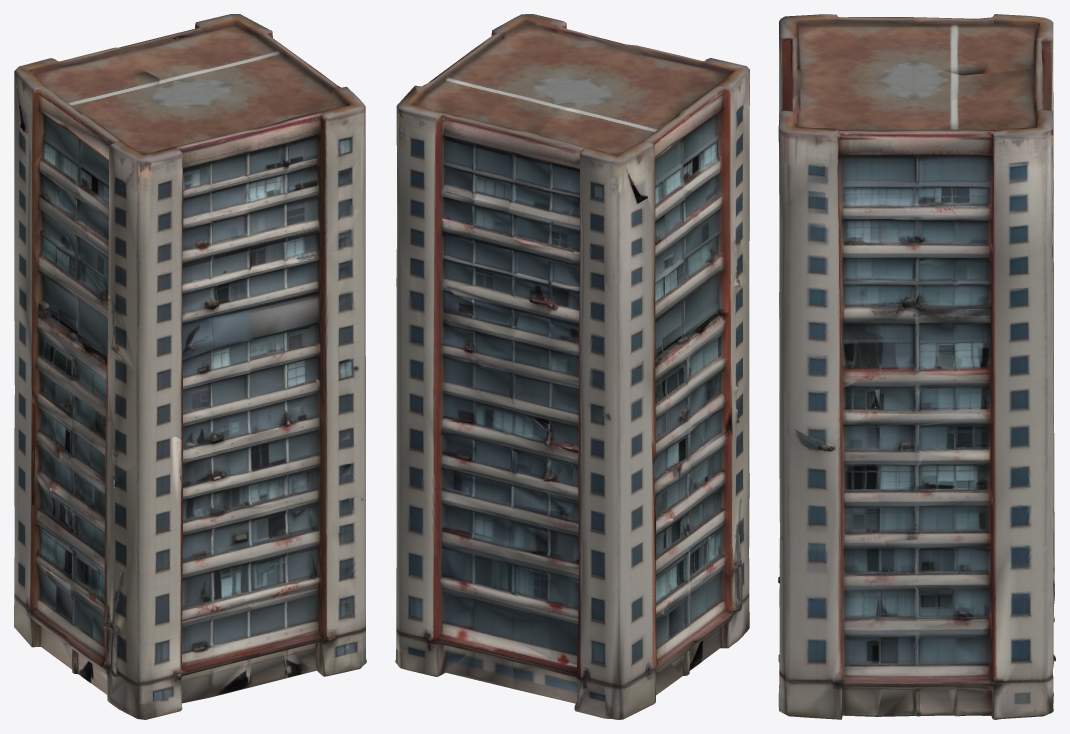
The model's file is Building.fbx.
3 views of the same model, side by side, from view 1: azimuth 30°, elevation 25°; view 2: azimuth 150°, elevation 25°; view 3: azimuth 270°, elevation 25° (orthographic). The views are drawn at different scales.
Parts seen in each view (by area): view 1: Mesh_0; view 2: Mesh_0; view 3: Mesh_0.
Boxes of the visible parts, x1,y1,x2,y2 form: Mesh_0: (14,14,366,719); Mesh_0: (395,14,749,719); Mesh_0: (778,14,1055,719).
Bounding box in the file's own units: 93.46 × 200 × 86.15.
1 material, 1 textured.
